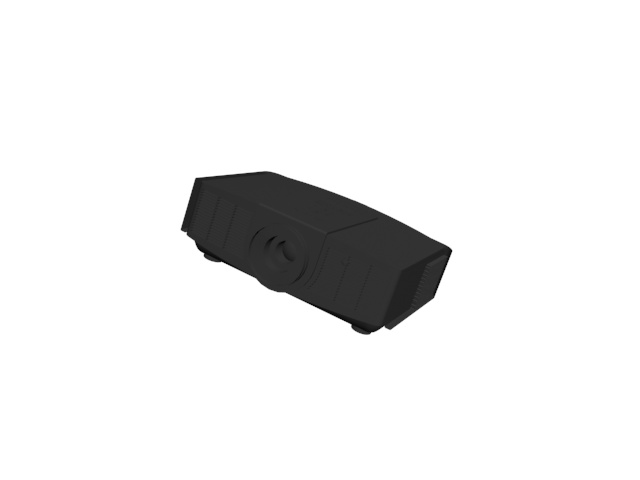projector: (177, 169, 456, 336)
